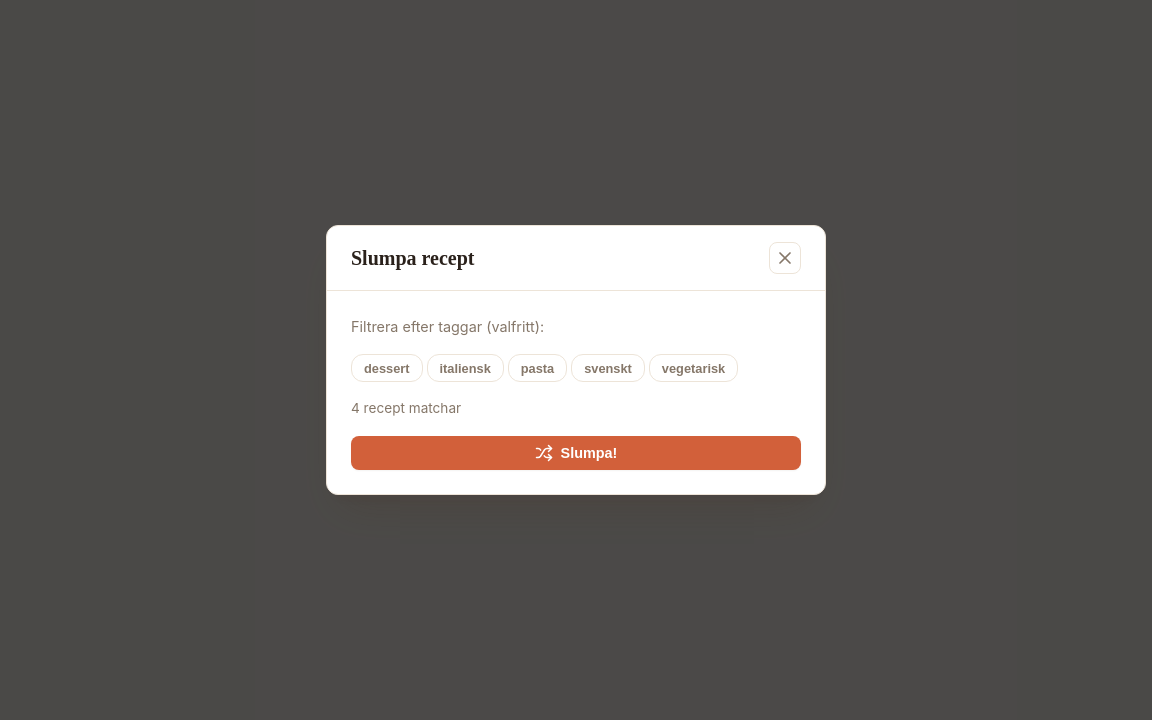
Test case: RandomRecipeDialog › tag filtering › should use AND logic for multiple tag filters
Click the button "italiensk" at (465, 368), box [426,354,504,382]
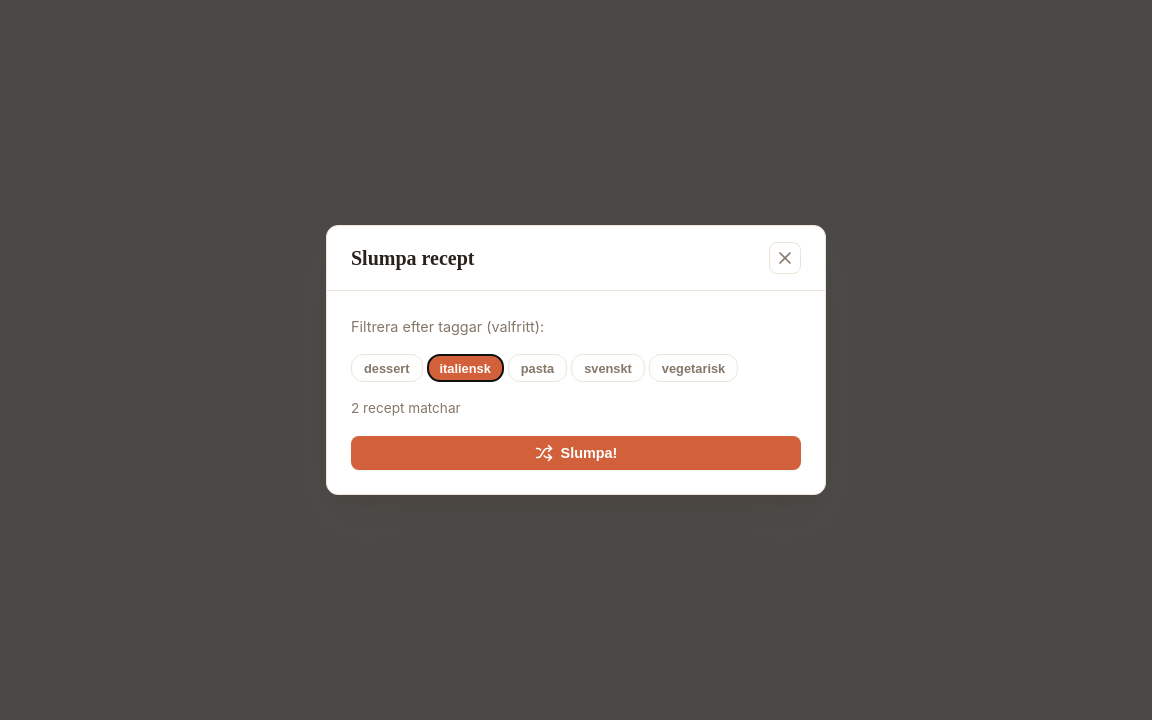
Click the button "vegetarisk" at (694, 368), box [649,354,738,382]
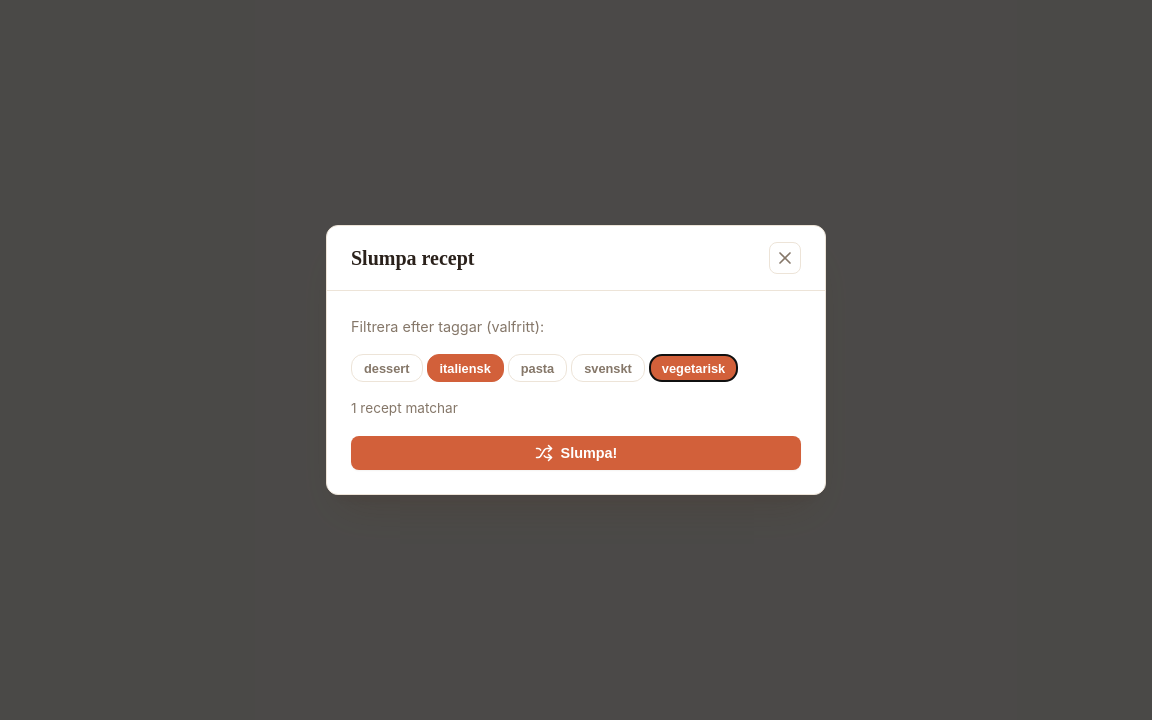
Now the text "1 recept matchar" is shown, box [351,400,458,416]
